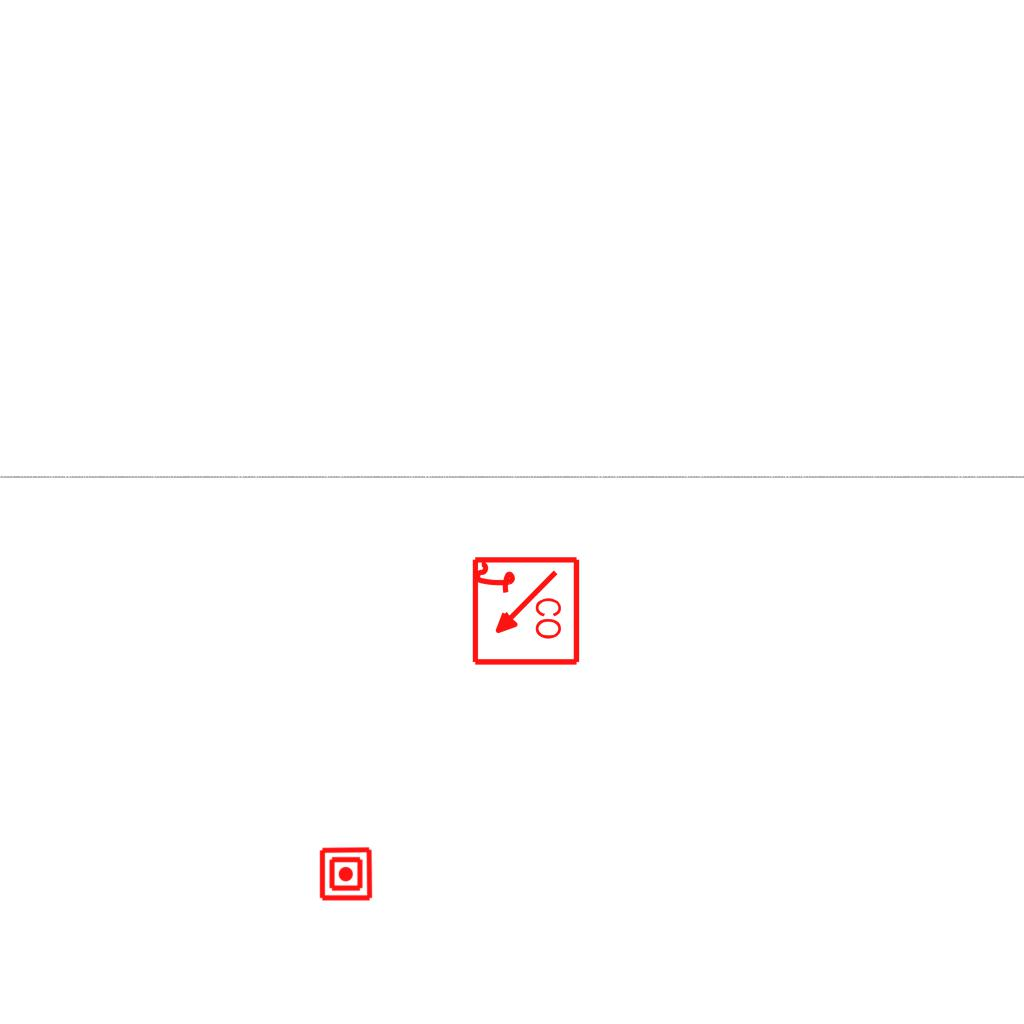NAM-Nichtautomatischer_Melder: (318, 846, 374, 902)
ROA_Rauchmelder_optisch_mit_Signalgeber_(Sockelsirene): (468, 555, 581, 668)
